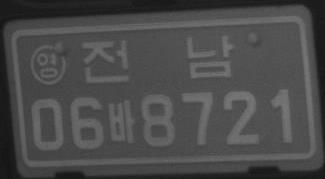0: (30, 97, 64, 151)
1: (265, 88, 300, 144)
2: (222, 89, 259, 145)
6: (69, 95, 105, 150)
7: (181, 90, 213, 146)
8: (140, 93, 175, 147)
바: (107, 99, 136, 143)
영: (28, 45, 67, 85)
전남_D: (80, 34, 235, 85)
